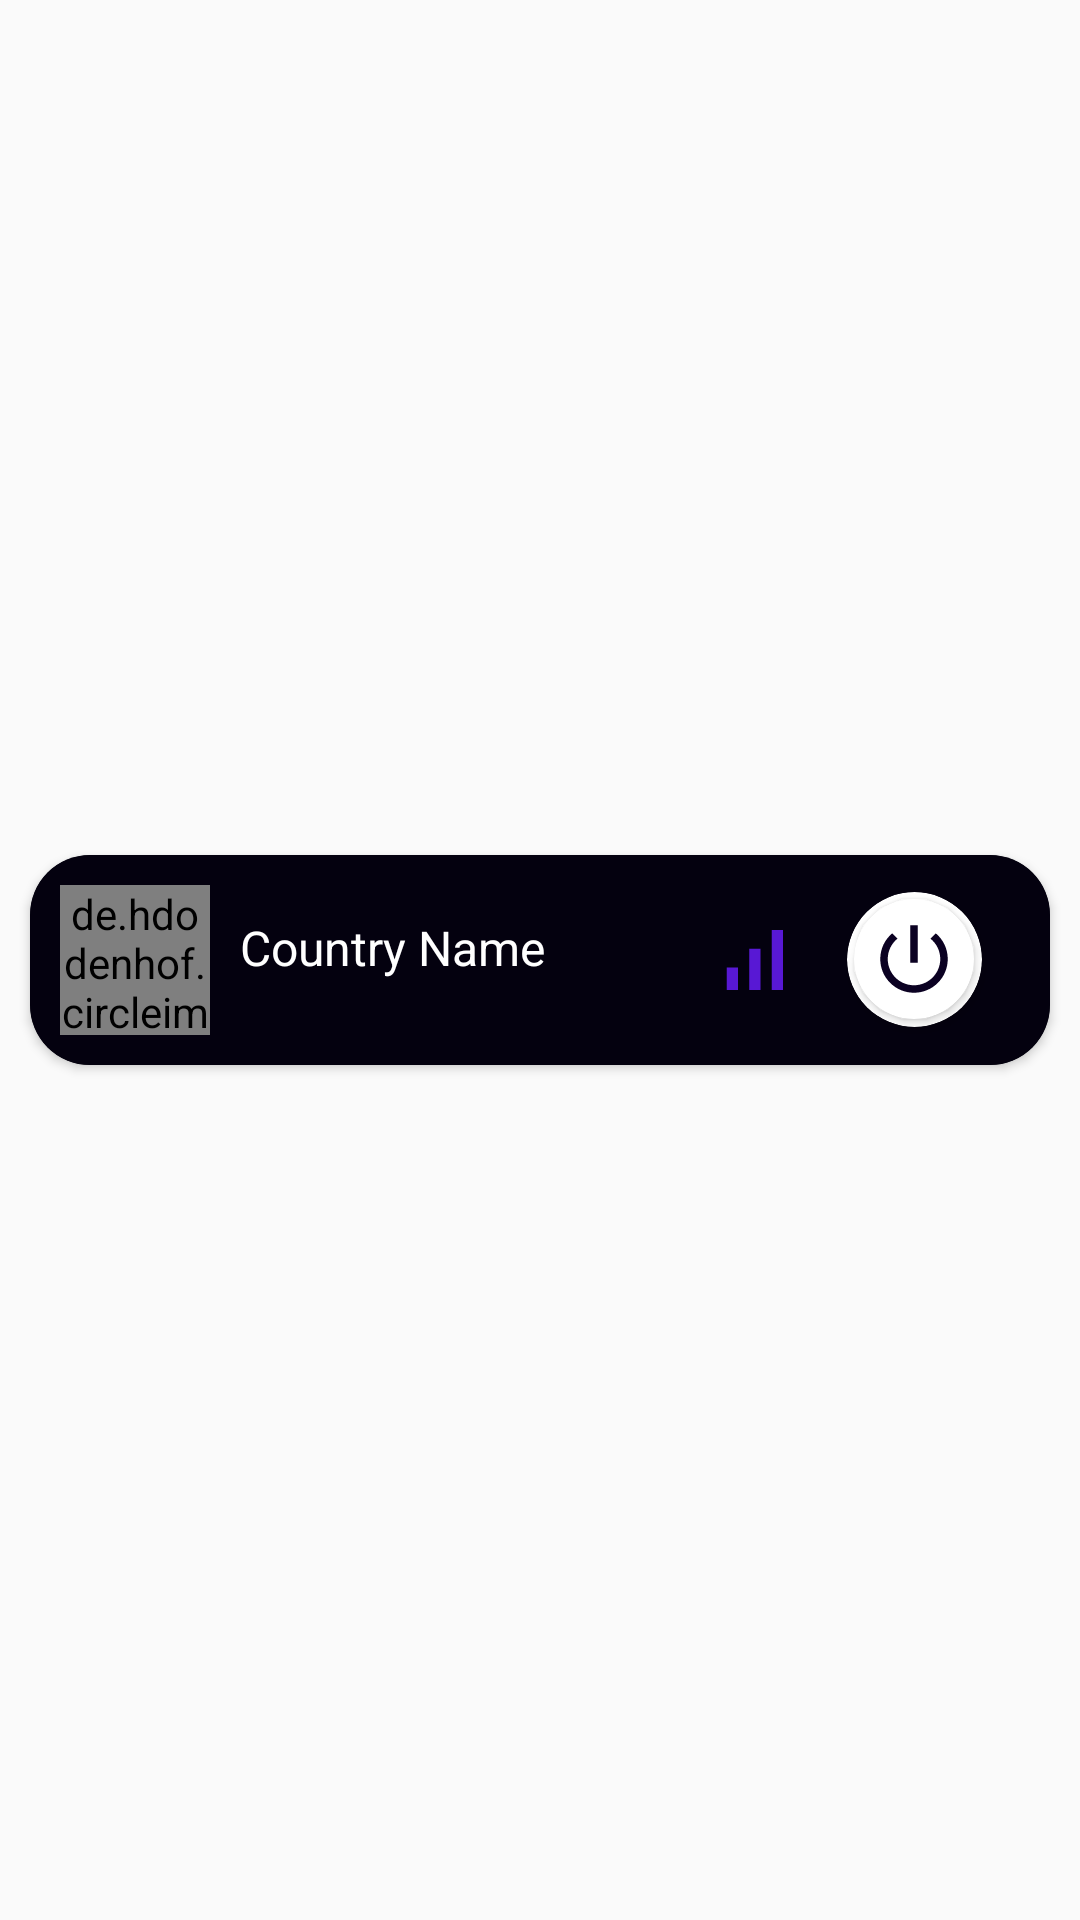

Icon click points for this 1080w x 1920h phone screenshot, format (x=x, y=y):
power: (x=914, y=959)
signal cellular: (x=754, y=960)
